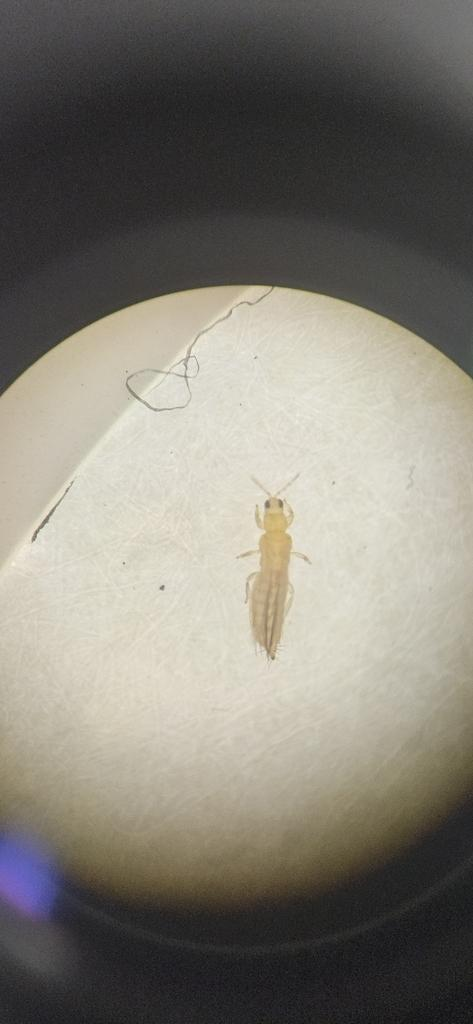tiny_pests: (201, 449, 343, 679)
